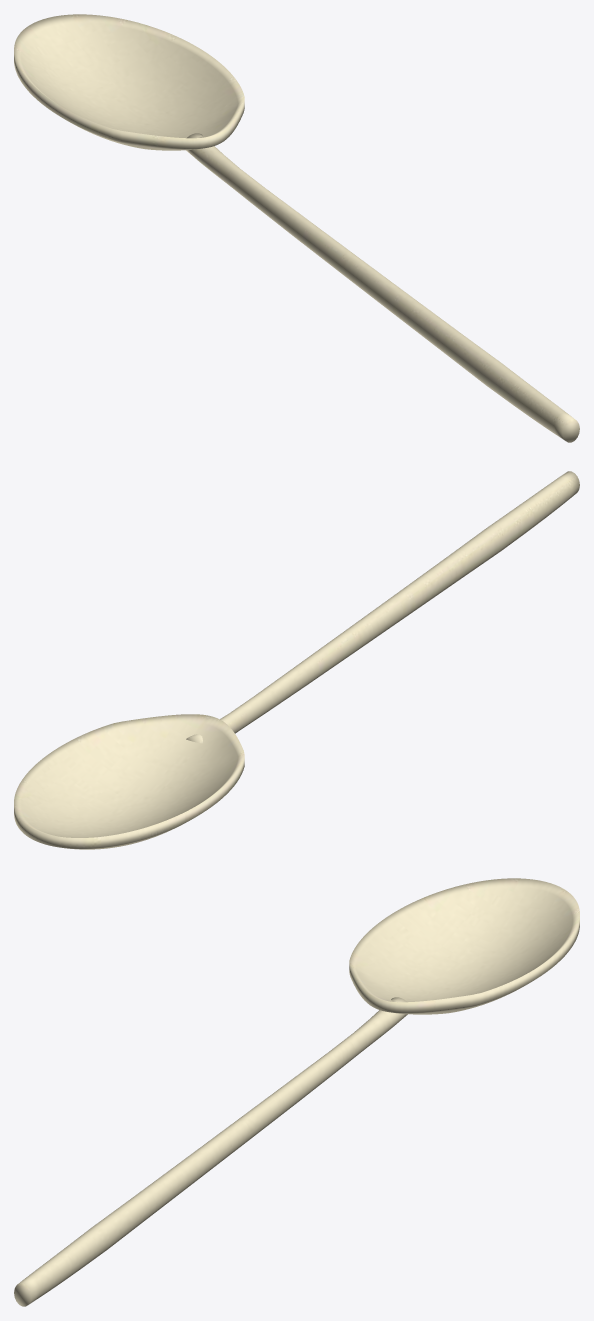
3 views of the same model, one above another, from view 1: azimuth 30°, elevation 25°; view 2: azimuth 150°, elevation 25°; view 3: azimuth 330°, elevation 25° (orthographic).
Visible parts, largest first — view 1: body; view 2: body; view 3: body.
Part boxes in pixels (x1,y1,x2,y2): body: (14,14,579,442); body: (14,471,579,849); body: (14,878,579,1306).
Bounding box in the file's own units: 0.0601 × 0.0165 × 0.3289.
Materials: 1 (1 with a texture image).
